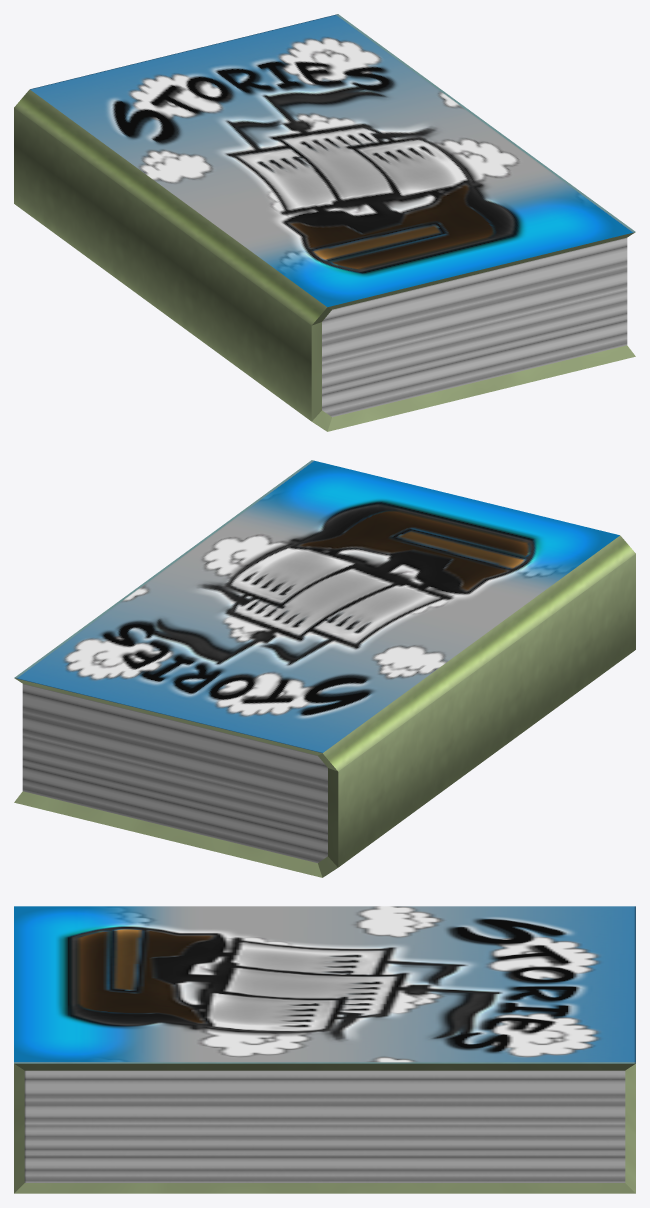
Rendered from Book_B.FBX.
3 views of the same model, one above another, from view 1: azimuth 30°, elevation 25°; view 2: azimuth 150°, elevation 25°; view 3: azimuth 270°, elevation 25° (orthographic). The views are drawn at different scales.
Parts seen in each view (by area): view 1: Book; view 2: Book; view 3: Book.
Part boxes in pixels (x1=…): Book: x1=14, y1=14, x2=635, y2=431; Book: x1=14, y1=460, x2=635, y2=877; Book: x1=14, y1=906, x2=635, y2=1193.
Bounding box in the file's own units: 61.34 × 22.54 × 97.58.
